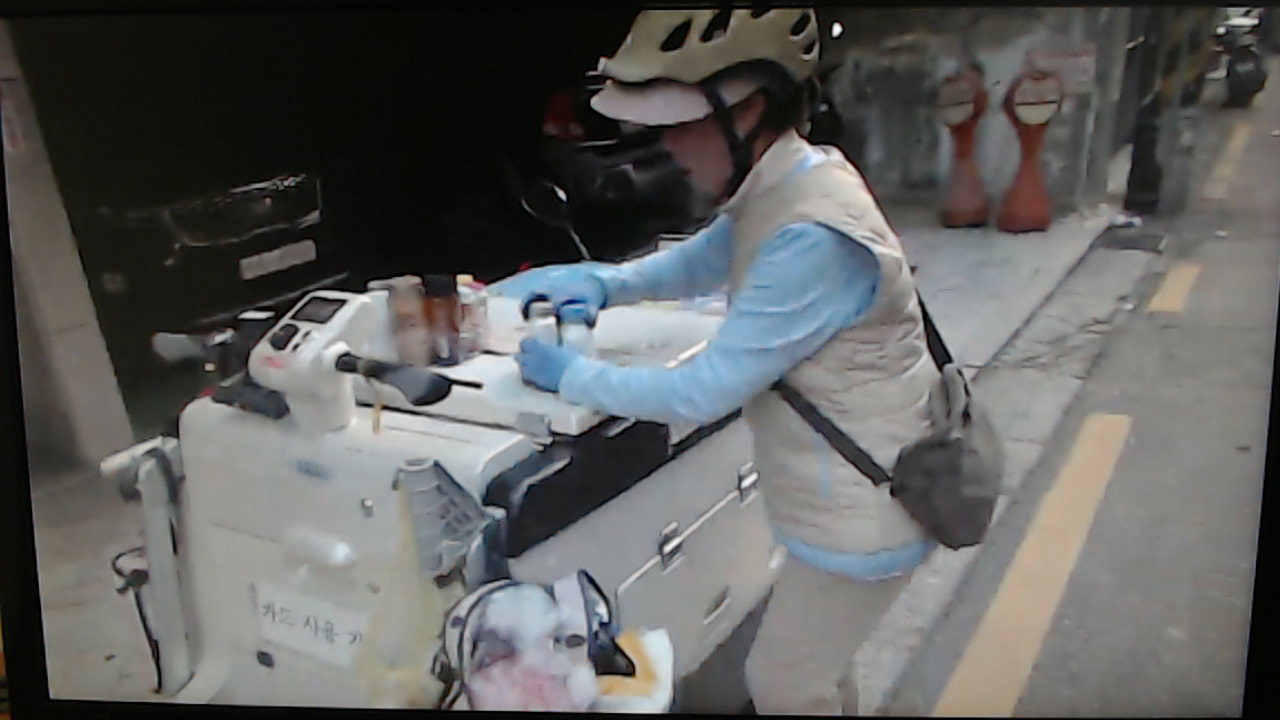Yakurut: (519, 15, 1019, 719)
